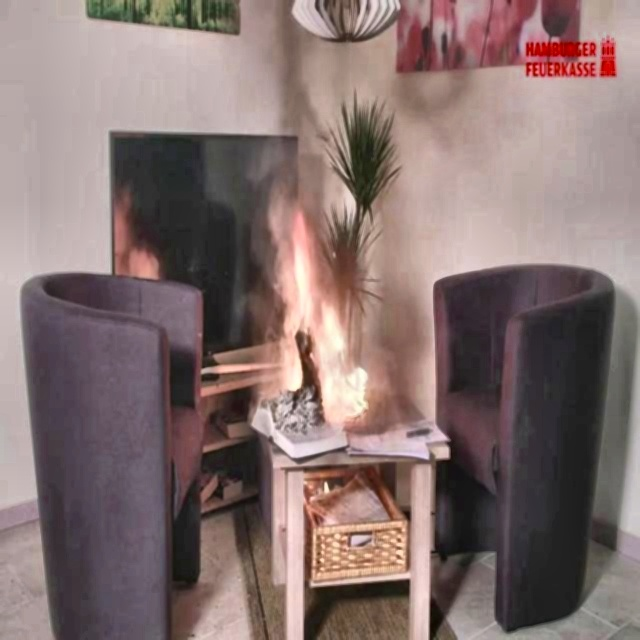fire: (262, 192, 372, 435)
